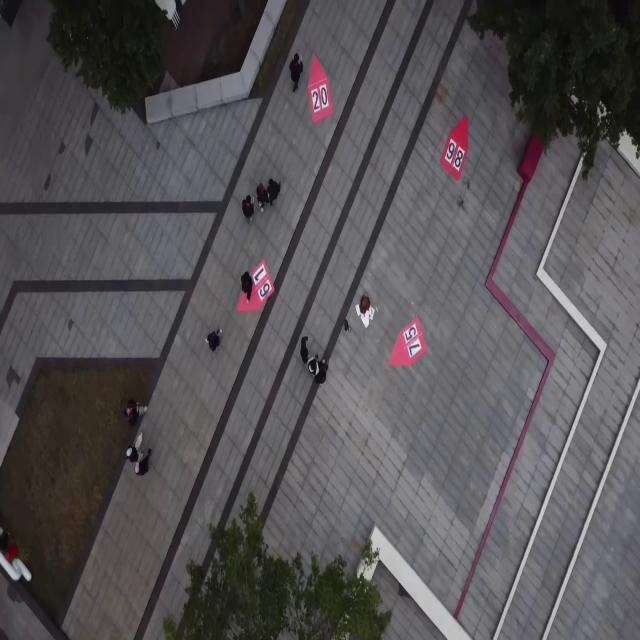-sign-: (381, 316, 434, 376), (233, 258, 282, 318), (438, 104, 471, 188), (305, 43, 336, 126)
